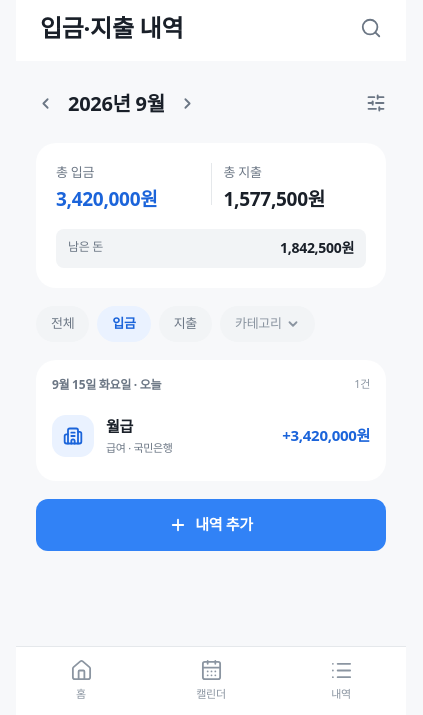
Test: HistoryPage › 월을 옮겨도 선택한 필터는 유지된다
The width and height of the screenshot is (423, 715).
Click the button named "이전 달".
click(45, 103)  # box [23,81,67,125]
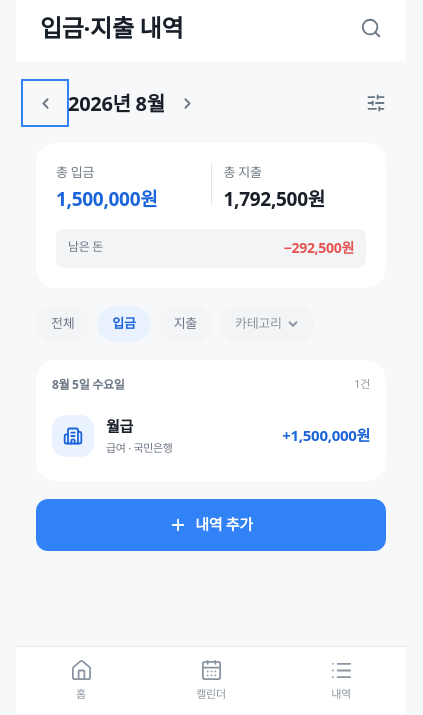
Check: the text "2026년 8월" is shown, box [68,88,165,118]
